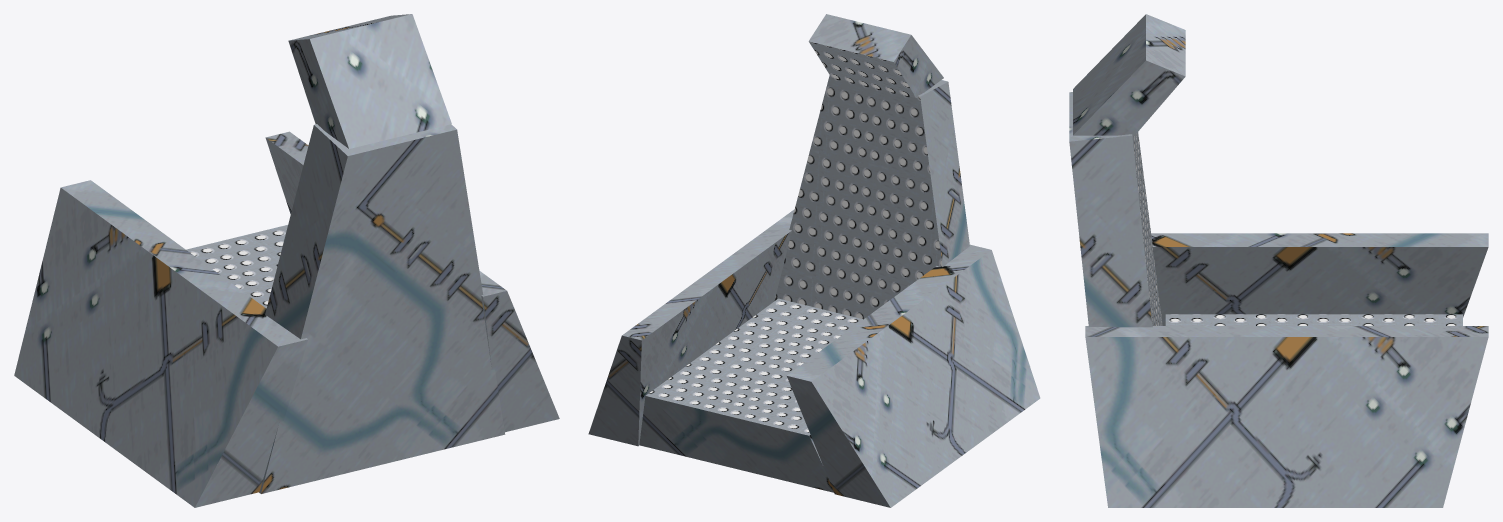
File: Elechair.glb
3 views of the same model, side by side, from view 1: azimuth 30°, elevation 25°; view 2: azimuth 150°, elevation 25°; view 3: azimuth 270°, elevation 25° (orthographic). The views are drawn at different scales.
Visible parts, largest first — view 1: Elechair; view 2: Elechair; view 3: Elechair.
Part boxes in pixels (left/top/right/bottom): Elechair: left=14, top=14, right=559, bottom=507; Elechair: left=588, top=14, right=1040, bottom=507; Elechair: left=1069, top=14, right=1488, bottom=507.
Bounding box in the file's own units: 67.44 × 74.47 × 72.4.
Materials: 2 (2 with a texture image).
